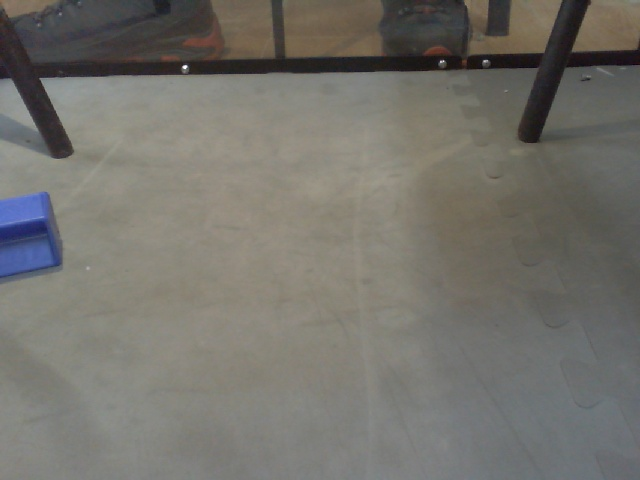BlueSample: (1, 189, 67, 280)
